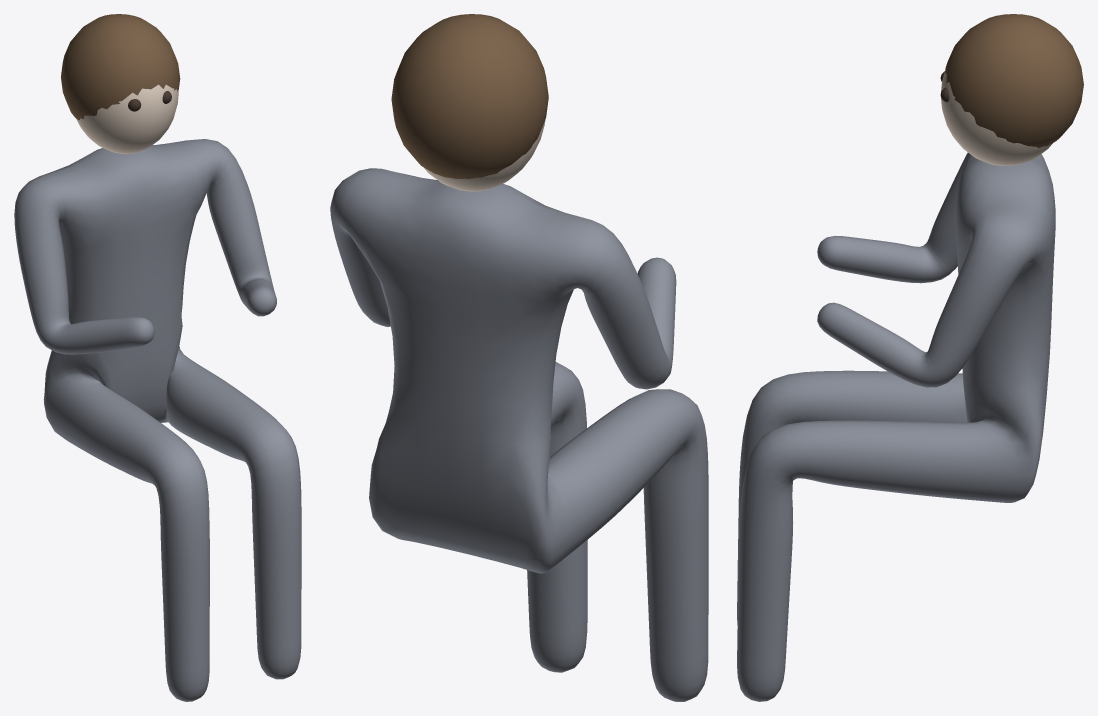
The model's file is mama_hosp.glb.
The picture shows the model from 3 angles, left to right: view 1: azimuth 30°, elevation 25°; view 2: azimuth 150°, elevation 25°; view 3: azimuth 270°, elevation 25°; orthographic projection. The views are drawn at different scales.
Visible parts, largest first — view 1: body, hair, head; view 2: body, hair, head; view 3: body, hair, head.
Part boxes in pixels (x1=…): body: x1=14, y1=139, x2=301, y2=701; hair: x1=61, y1=14, x2=180, y2=119; head: x1=76, y1=84, x2=178, y2=153; body: x1=330, y1=168, x2=708, y2=701; hair: x1=391, y1=14, x2=548, y2=179; head: x1=423, y1=119, x2=545, y2=191; body: x1=737, y1=152, x2=1055, y2=701; hair: x1=945, y1=14, x2=1083, y2=147; head: x1=940, y1=72, x2=1052, y2=165.
Size of the model in its own units: 0.51 by 1.23 by 0.5915.
